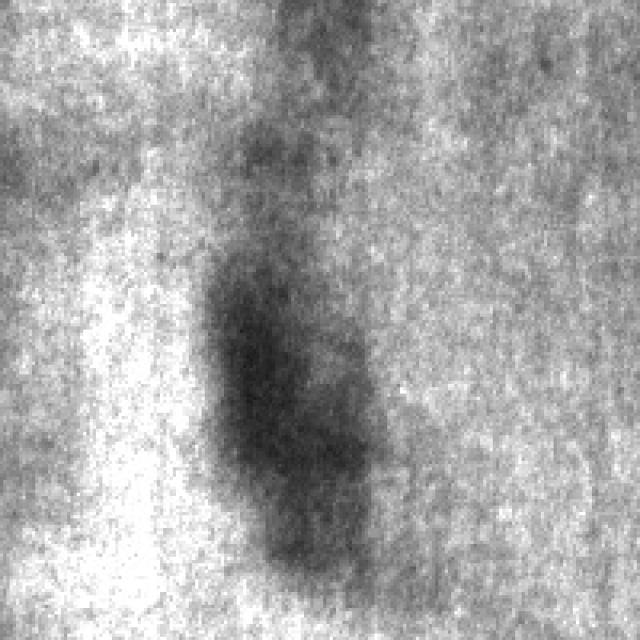patches: (202, 218, 368, 566)
